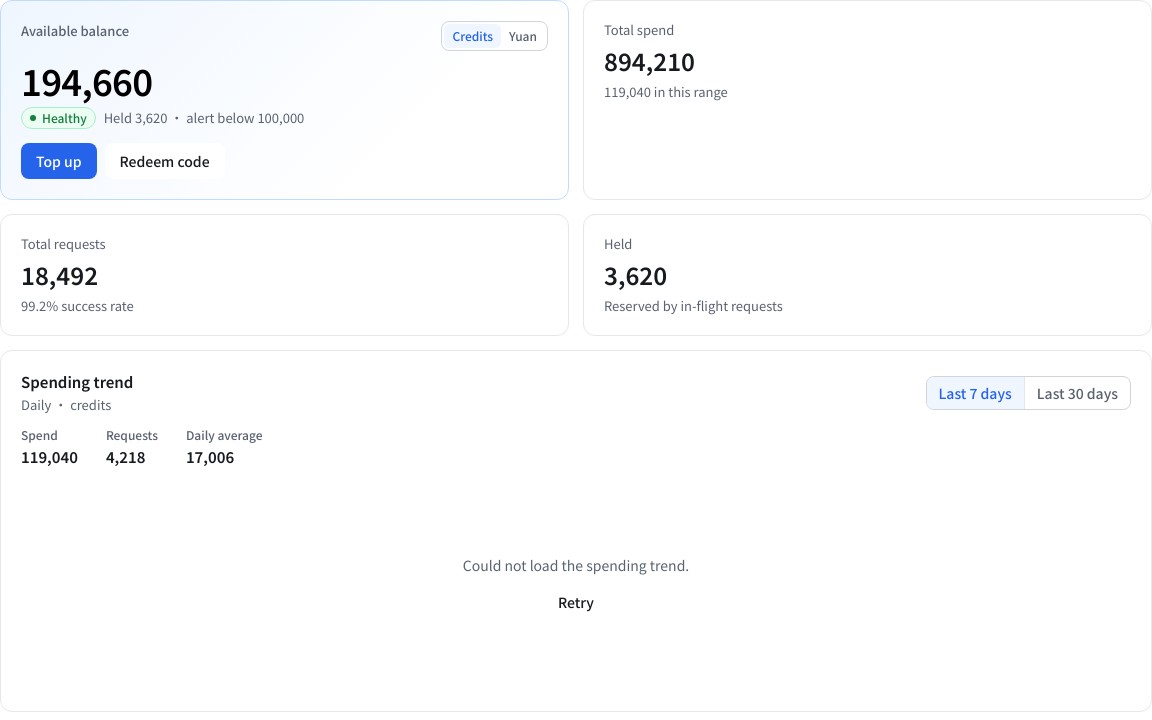
Test: WalletOverview › shows the trend error with a retry that refetches both usage queries
Expected: the text "Could not load the spending trend." is shown, left=463, top=554, right=689, bottom=576
Click the button "Retry". click: (576, 602)
box: left=543, top=584, right=609, bottom=620
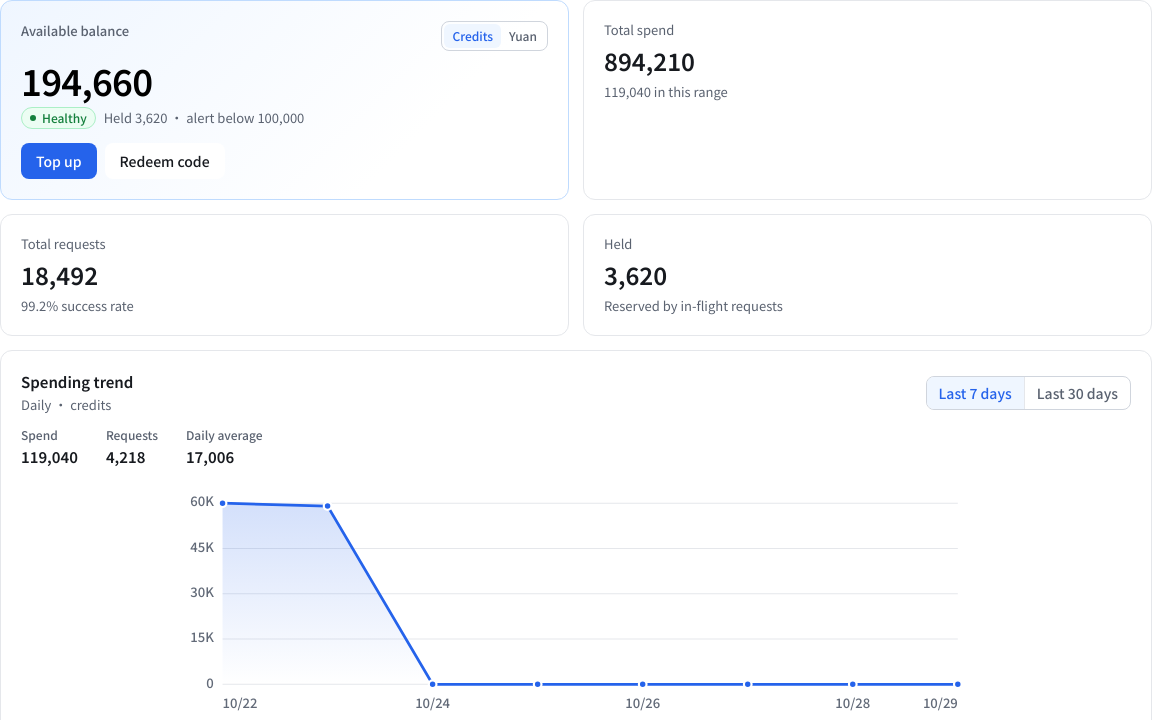
Expected: the text "119,040" is shown, left=21, top=445, right=78, bottom=469
Now the element with test id "wallet-spend-chart" is shown, box left=15, top=477, right=1137, bottom=717
